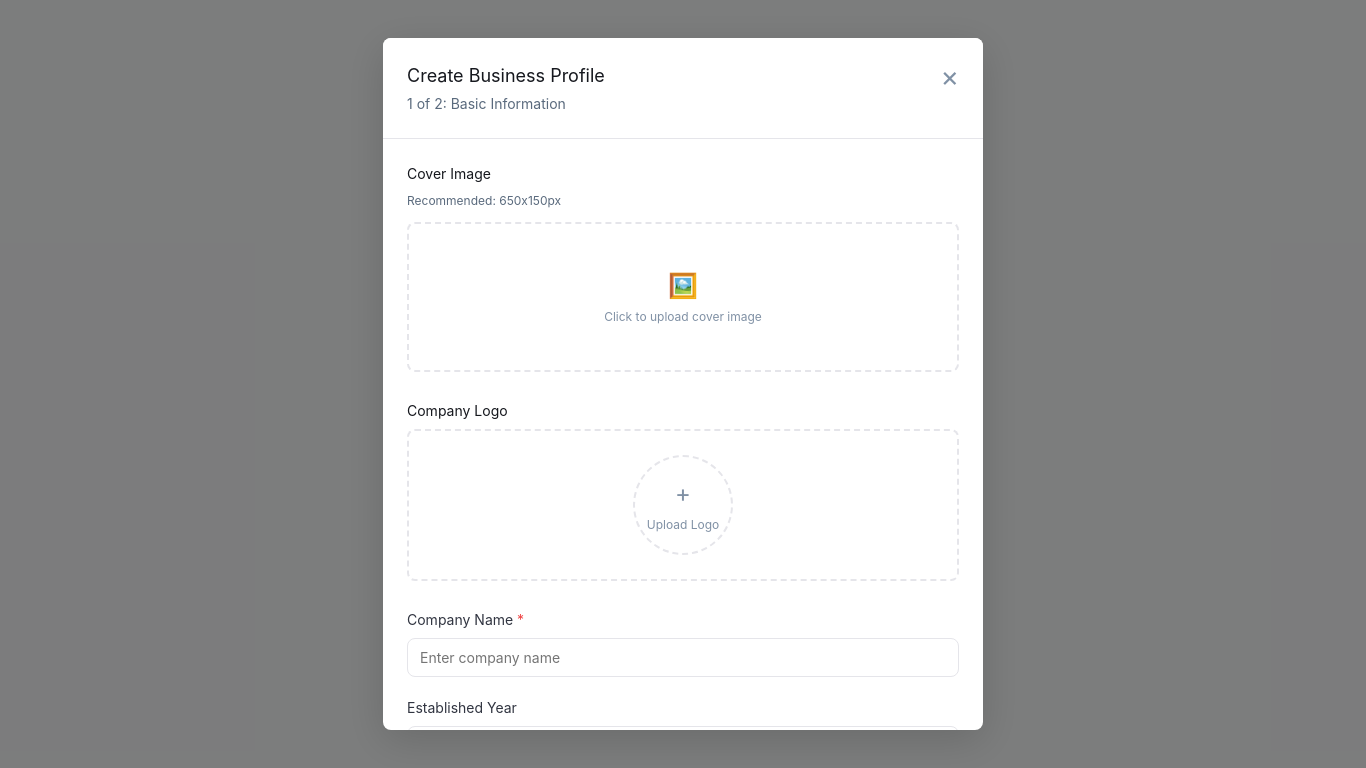
Test: BusinessProfileModal › Step 1: Basic Information › should validate URL formats
This screenshot has width=1366, height=768.
Step 1. Type "Test Company" into the field labelled "Company Name *" → x=683, y=658, box [407,638,959,677]
(page scrolled)
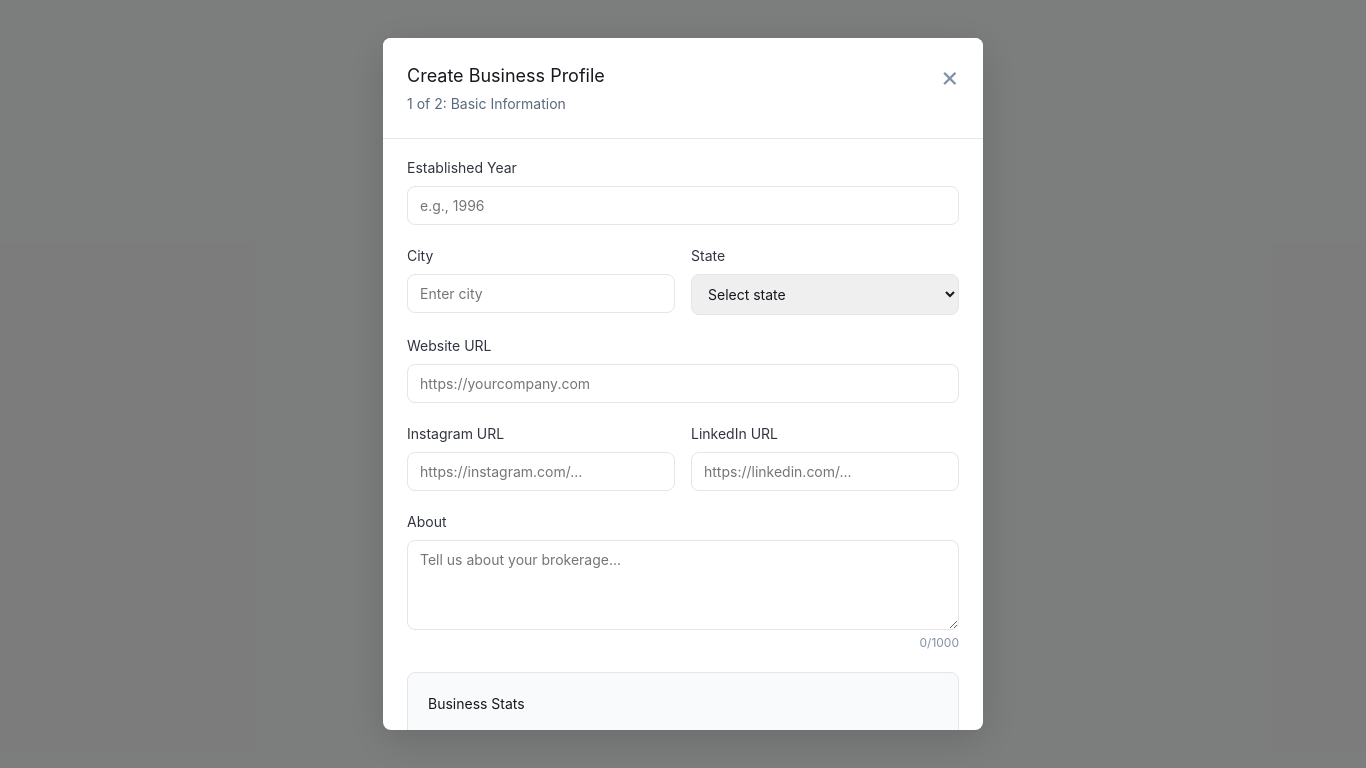
Step 2. Type "invalid-url" into the field labelled "Website URL" → x=683, y=384, box [407,364,959,403]
(page scrolled)
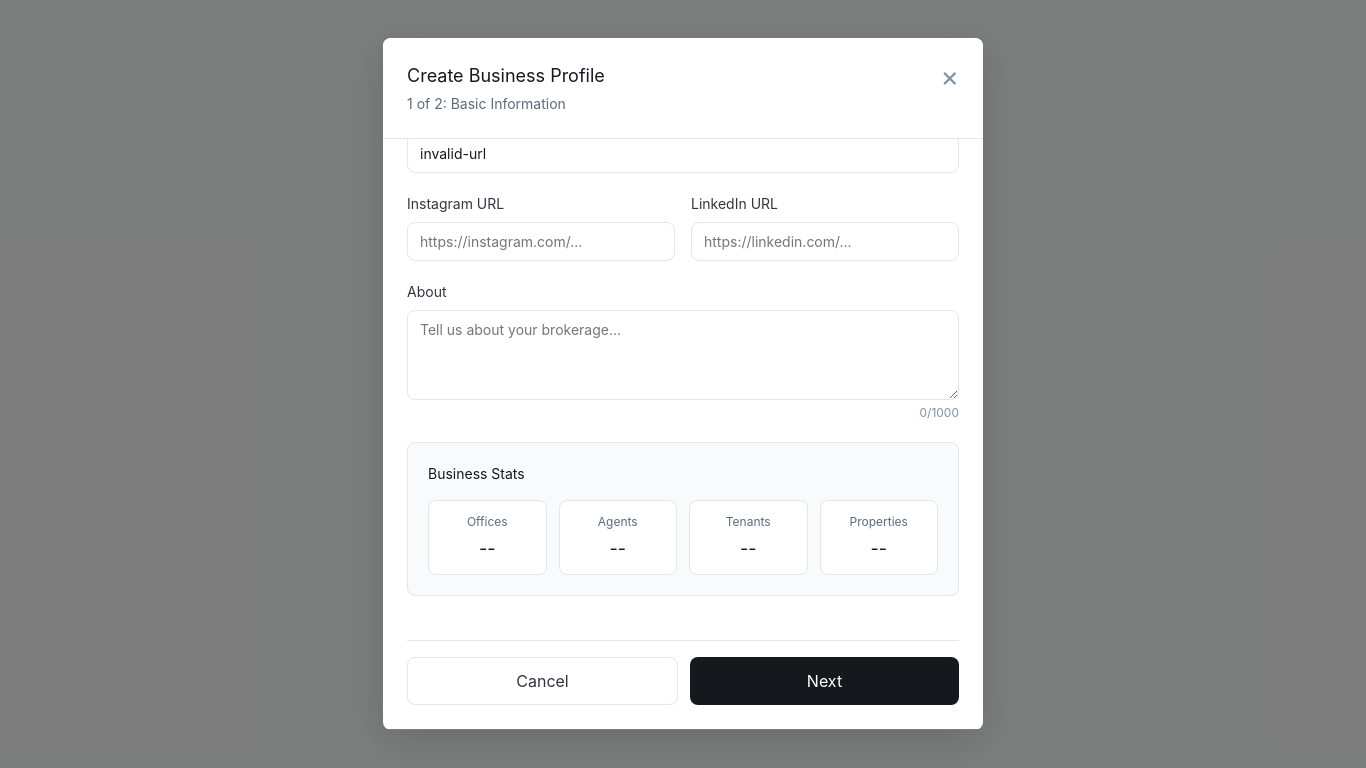
Step 3. Click the button "Next" → x=824, y=681, box [690,657,959,705]
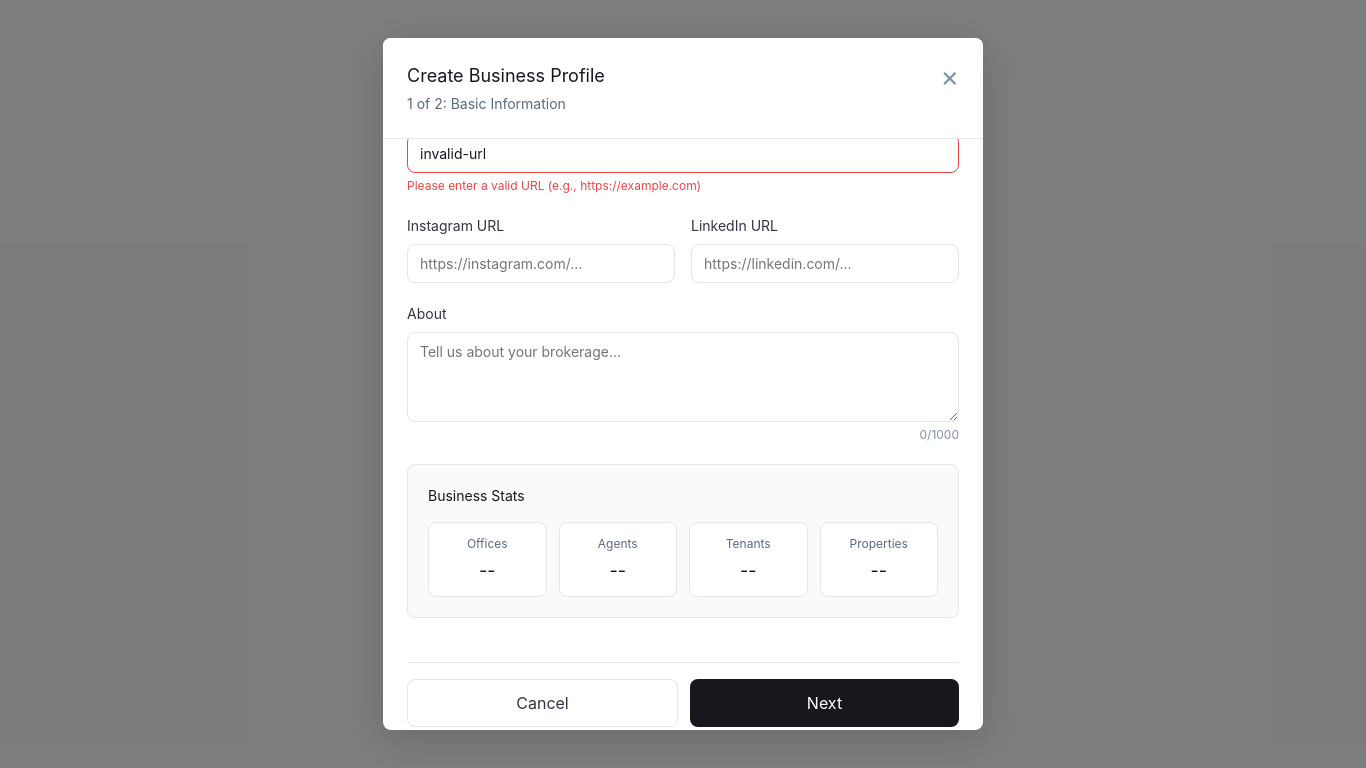
Now the text "Please enter a valid URL (e.g., https://example.com)" is shown, box [407,178,701,193]
